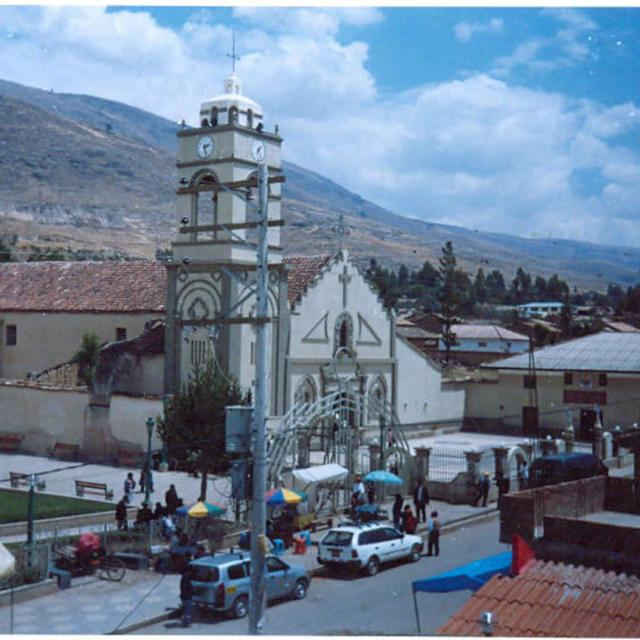CAMPANARIO: (154, 165, 294, 268)
CUPULA: (179, 95, 286, 141)
PORTADA CENTRAL: (325, 386, 363, 457)
TORRES: (162, 44, 298, 487)
colonial-architecture-: (0, 68, 620, 518)
